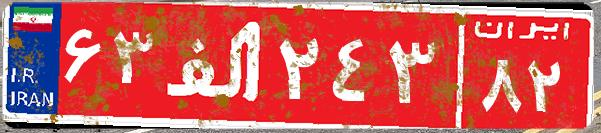2: (273, 28, 330, 110), (525, 38, 570, 115)
3: (385, 28, 445, 110), (110, 28, 158, 105)
4: (330, 28, 385, 110)
6: (57, 26, 110, 107)
8: (475, 38, 525, 113)
الف: (158, 15, 273, 115)
